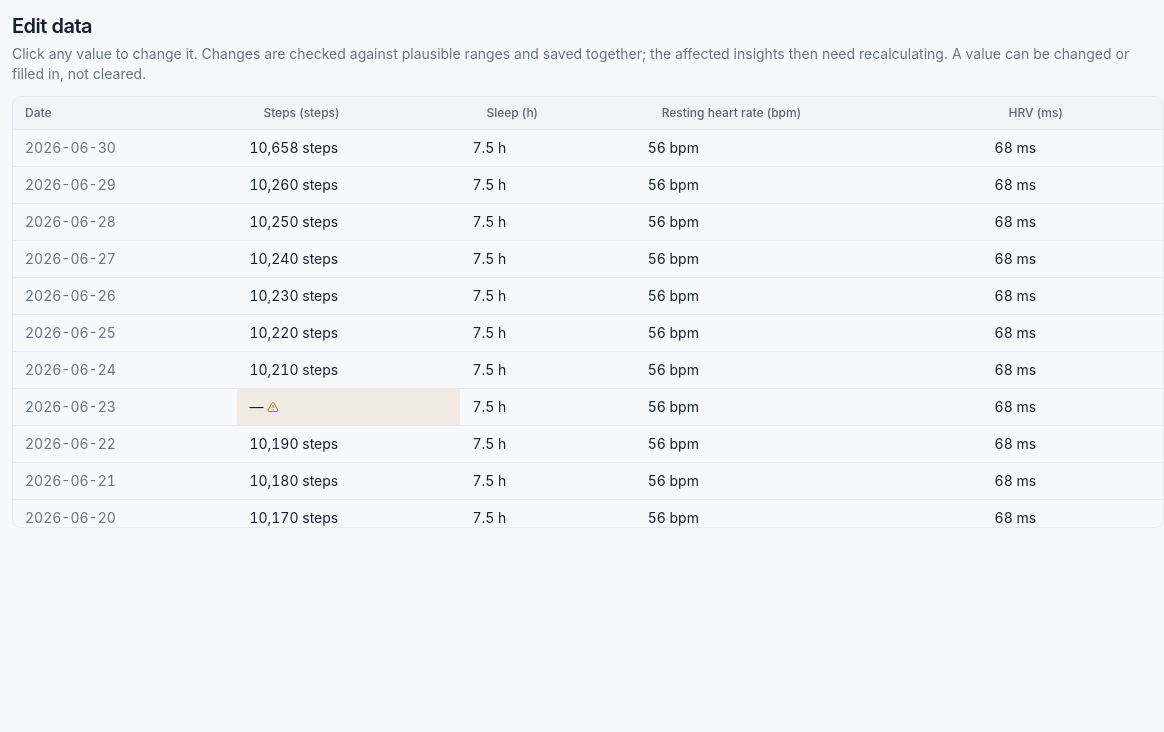
it: DataEditor › reverting a cell to its original value clears the change
The image size is (1164, 732).
Click the button "7.5 h" in the row of "2026-06-30": (548,148) [466,134,630,162]
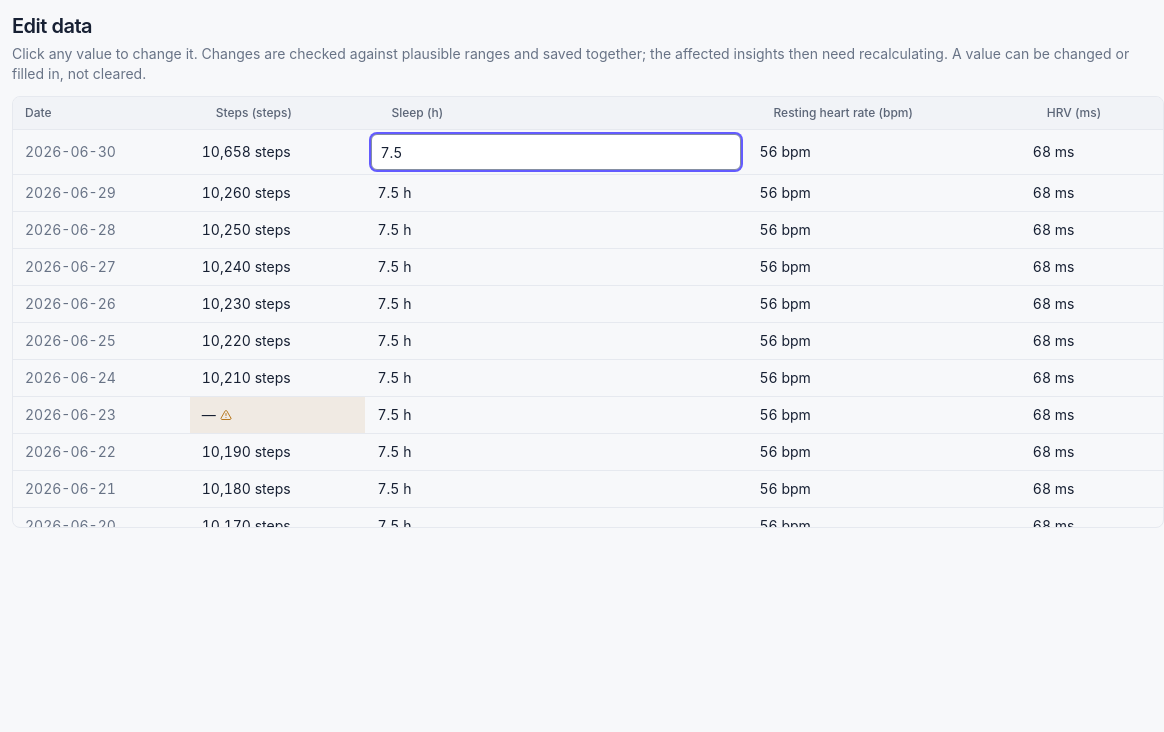
Replace the text in the field with "7.2": (556,152) [372,134,742,170]
Then press Enter
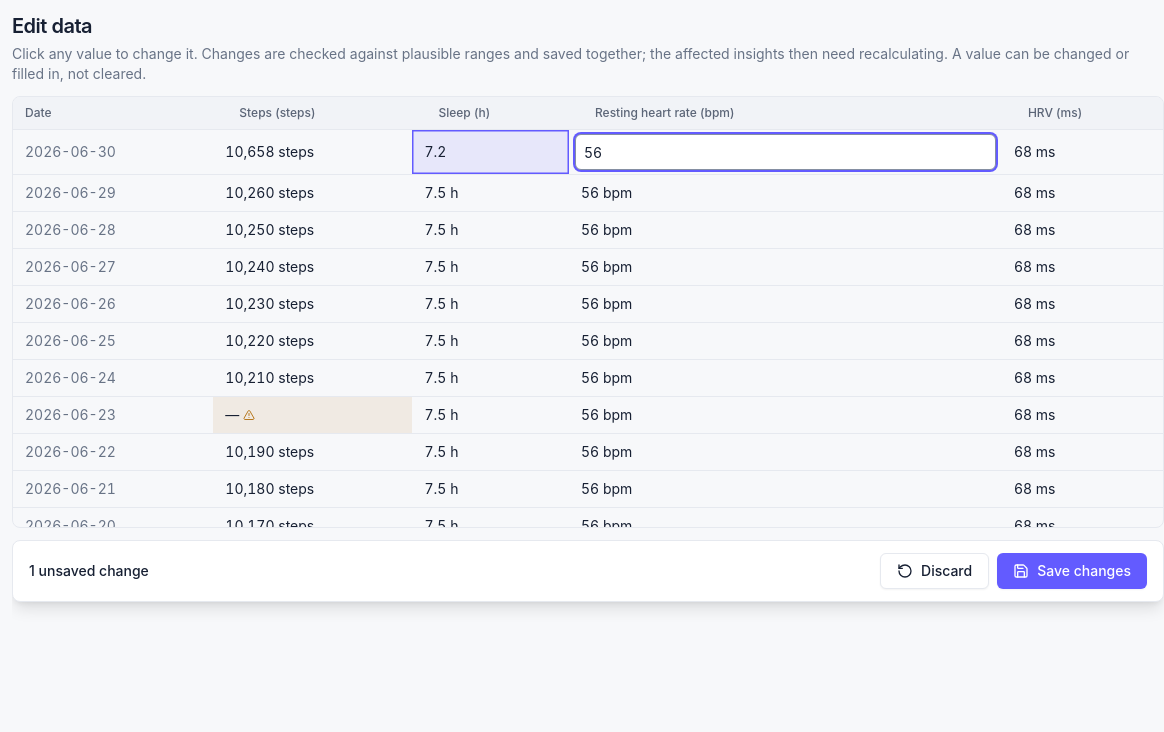
Click the button "7.2": (491,152) [418,138,563,166]
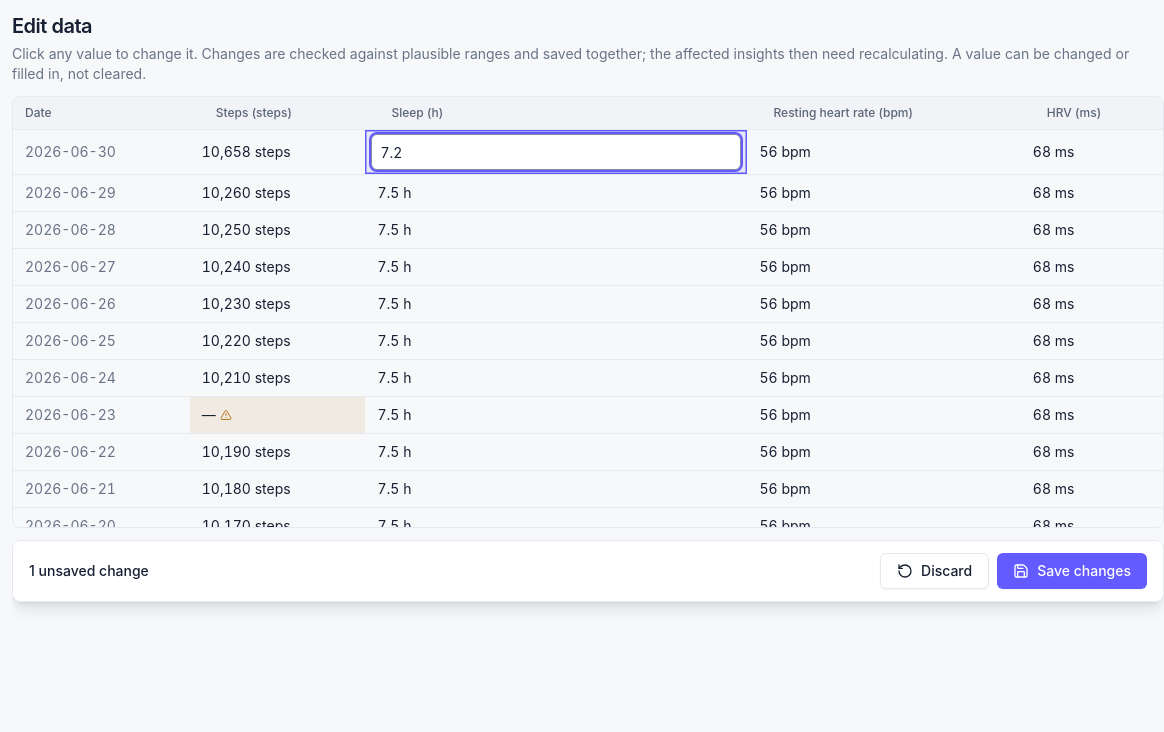
Replace the text in the field with "7.5": (556,152) [372,134,742,170]
Then press Enter
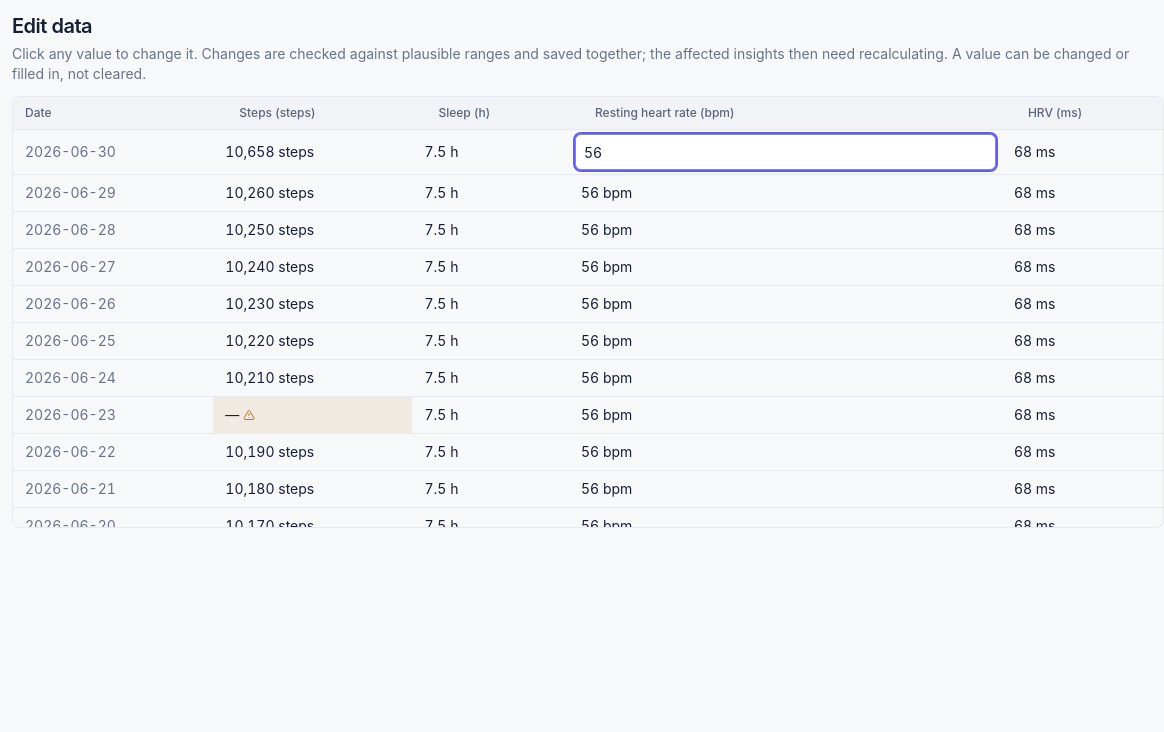
Now the text "unsaved change" is gone
